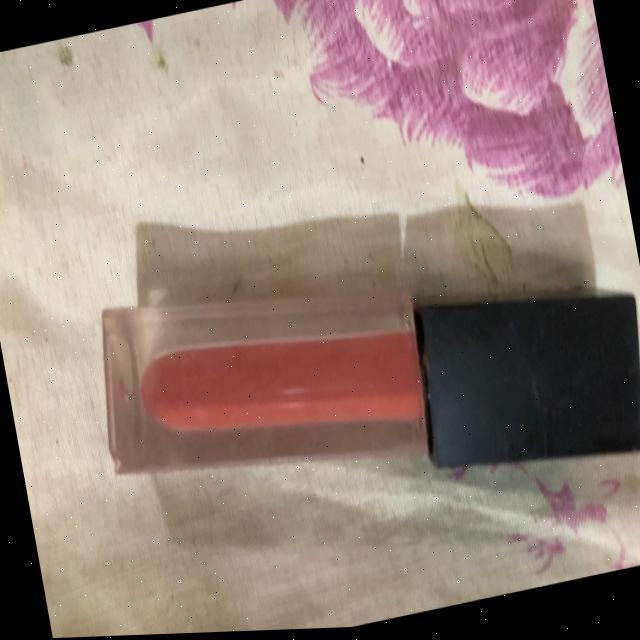lip gloss: (64, 167, 640, 587)
